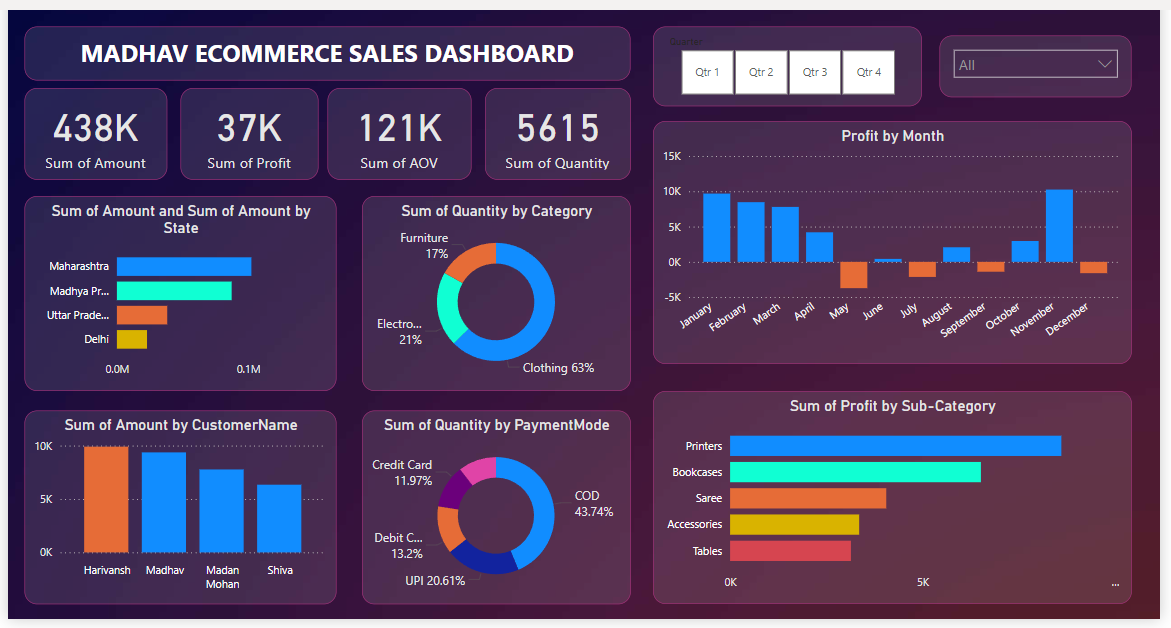

The page's visual inventory and layout, read from the dashboard file:
{"tool":"powerbi","page":{"name":"Page 1","canvas":[1280,720],"ordinal":0},"visuals":[{"type":"columnChart","title":"Profit by Month","fields":{"Y":["Details.Profit"],"Category":["Orders.Order Date.Variation.Date Hierarchy.Month"]},"box":[716.7,166.7,531.7,270],"z":1000},{"type":"barChart","fields":{"Category":["Details.Sub-Category"],"Y":["Details.Profit"]},"box":[716.7,466.7,531.7,236.7],"z":2000},{"type":"donutChart","fields":{"Category":["Details.Category"],"Y":["Details.Quantity"]},"box":[393.3,250,298.3,216.7],"z":3000},{"type":"card","fields":{"Values":["Details.Amount"]},"box":[18.3,130,158.3,101.7],"z":4000},{"type":"barChart","fields":{"Category":["Orders.State"],"Y":["Details.Amount","Details.Amount"]},"box":[18.3,250,346.7,216.7],"z":5000},{"type":"donutChart","fields":{"Category":["Details.PaymentMode"],"Y":["Details.Quantity"]},"box":[393.3,488.3,298.3,215],"z":6000},{"type":"columnChart","fields":{"Category":["Orders.CustomerName"],"Y":["Details.Amount"]},"box":[18.3,488.3,346.7,215],"z":7000},{"type":"slicer","fields":{"Values":["Orders.Order Date.Variation.Date Hierarchy.Quarter"]},"box":[716.7,61.7,298.3,88.3],"z":8000},{"type":"slicer","fields":{"Values":["Orders.State"]},"box":[1035,71.7,213.3,68.3],"z":8002},{"type":"card","fields":{"Values":["Details.Quantity"]},"box":[530,130,161.7,101.7],"z":8003},{"type":"card","fields":{"Values":["Details.Profit"]},"box":[191.7,130,153.3,101.7],"z":8004},{"type":"card","fields":{"Values":["Details.AOV"]},"box":[355,130,160,101.7],"z":8005},{"type":"textbox","box":[18.3,61.7,673.3,60],"z":8006}]}

Visuals, with their boxes on the page's 1280x720 design canvas (x1, y1, x2, y2). These are canvas units, not pixel positions in the 1171x628 screenshot, which may show the page scaled, cropped or inside an application window:
"Profit by Month" columnChart: Rect(717, 167, 1248, 437)
barChart - Details.Sub-Category x Details.Profit: Rect(717, 467, 1248, 703)
donutChart - Details.Category x Details.Quantity: Rect(393, 250, 692, 467)
card - Details.Amount: Rect(18, 130, 177, 232)
barChart - Orders.State x Details.Amount: Rect(18, 250, 365, 467)
donutChart - Details.PaymentMode x Details.Quantity: Rect(393, 488, 692, 703)
columnChart - Orders.CustomerName x Details.Amount: Rect(18, 488, 365, 703)
slicer - Orders.Order Date.Variation.Date Hierarchy.Quarter: Rect(717, 62, 1015, 150)
slicer - Orders.State: Rect(1035, 72, 1248, 140)
card - Details.Quantity: Rect(530, 130, 692, 232)
card - Details.Profit: Rect(192, 130, 345, 232)
card - Details.AOV: Rect(355, 130, 515, 232)
textbox: Rect(18, 62, 692, 122)
